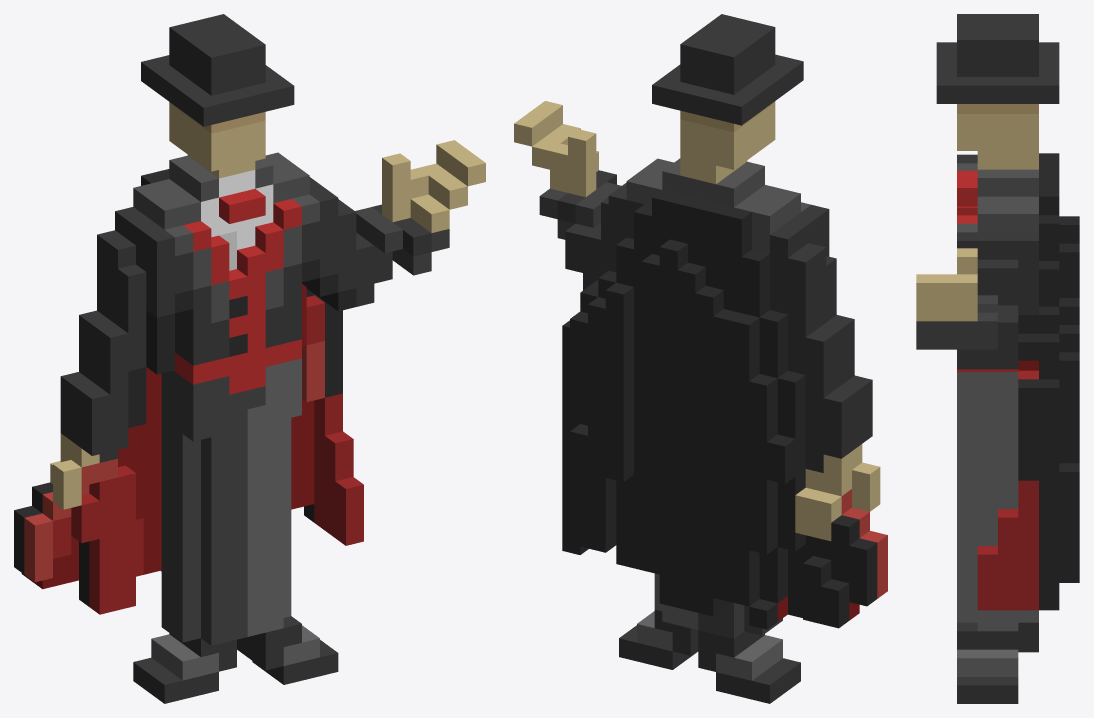
The model's file is magician.glb.
3 views of the same model, side by side, from view 1: azimuth 30°, elevation 25°; view 2: azimuth 150°, elevation 25°; view 3: azimuth 270°, elevation 25° (orthographic). The views are drawn at different scales.
Visible parts, largest first — view 1: 08-magician; view 2: 08-magician; view 3: 08-magician.
Part boxes in pixels (x1,y1,x2,y2): 08-magician: [14, 14, 485, 703]; 08-magician: [514, 14, 887, 703]; 08-magician: [916, 14, 1079, 703].
Size of the model in its own units: 2.2 by 3.4 by 0.8.
1 material, 1 textured.
